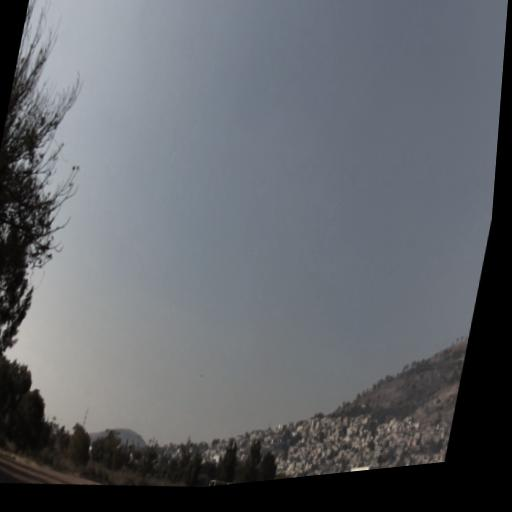drones: (200, 374, 204, 378)
